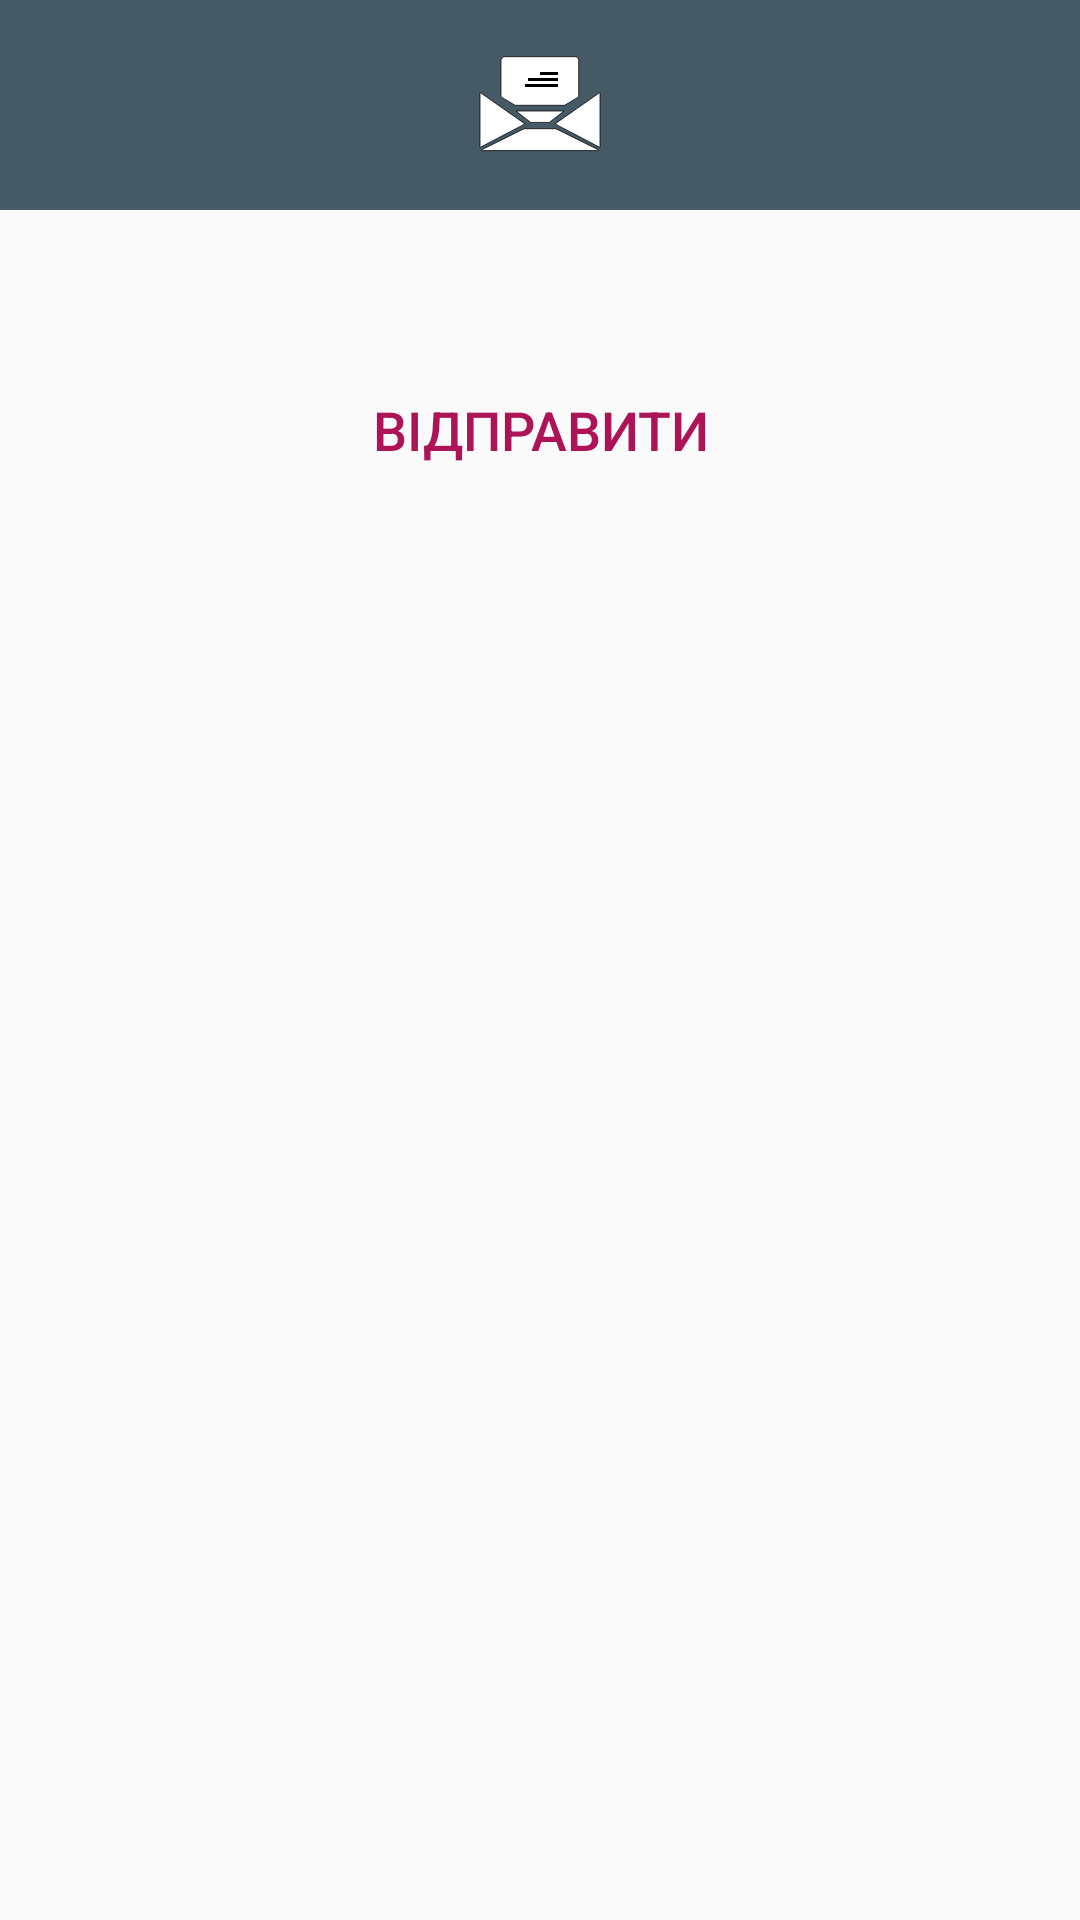

Where to tap for icons on this 1080×1920 app screen, as (x,y):
mail prepare: (540,103)
